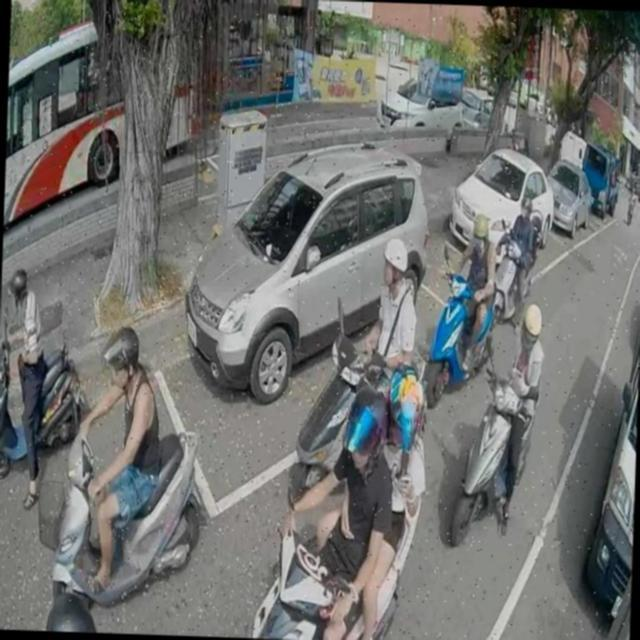person: (269, 376, 399, 640), (320, 367, 427, 640), (69, 317, 165, 601), (0, 262, 52, 512), (490, 294, 543, 538), (359, 233, 418, 396), (446, 200, 496, 372), (504, 195, 541, 325), (46, 574, 98, 632)
